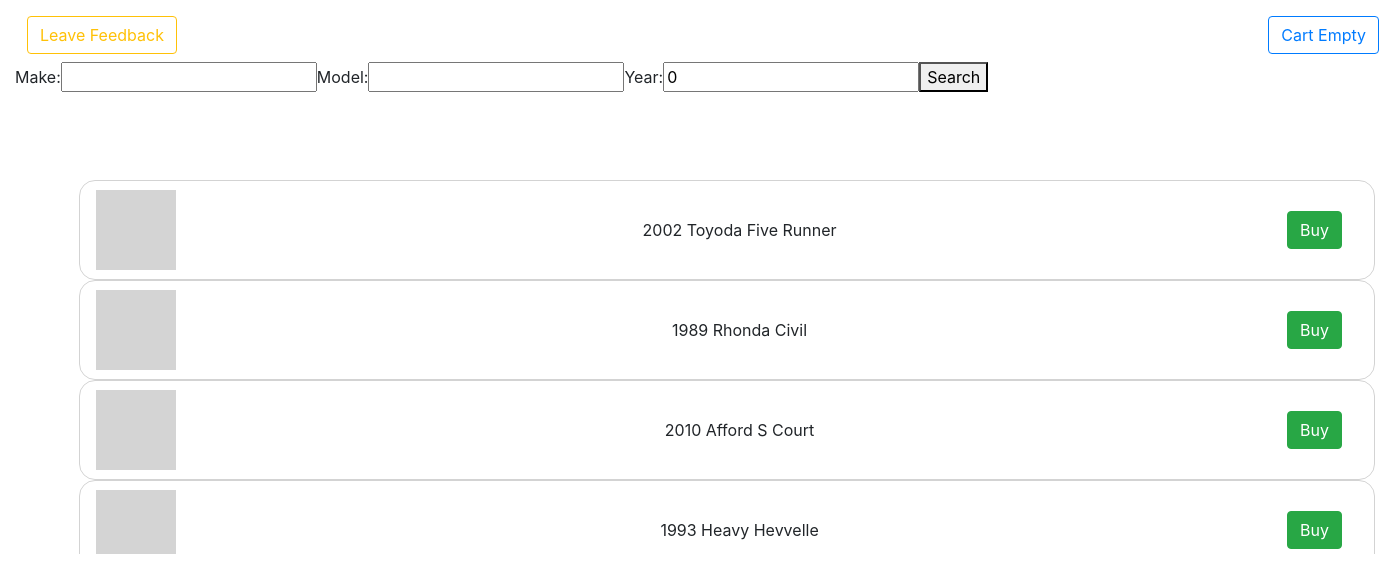
it: App Content › should add an item to the cart when buying item from the car detail
The width and height of the screenshot is (1396, 571).
Click the text "2010 Afford S Court".
click(740, 430)  # box top-left (665, 418), bottom-right (814, 442)
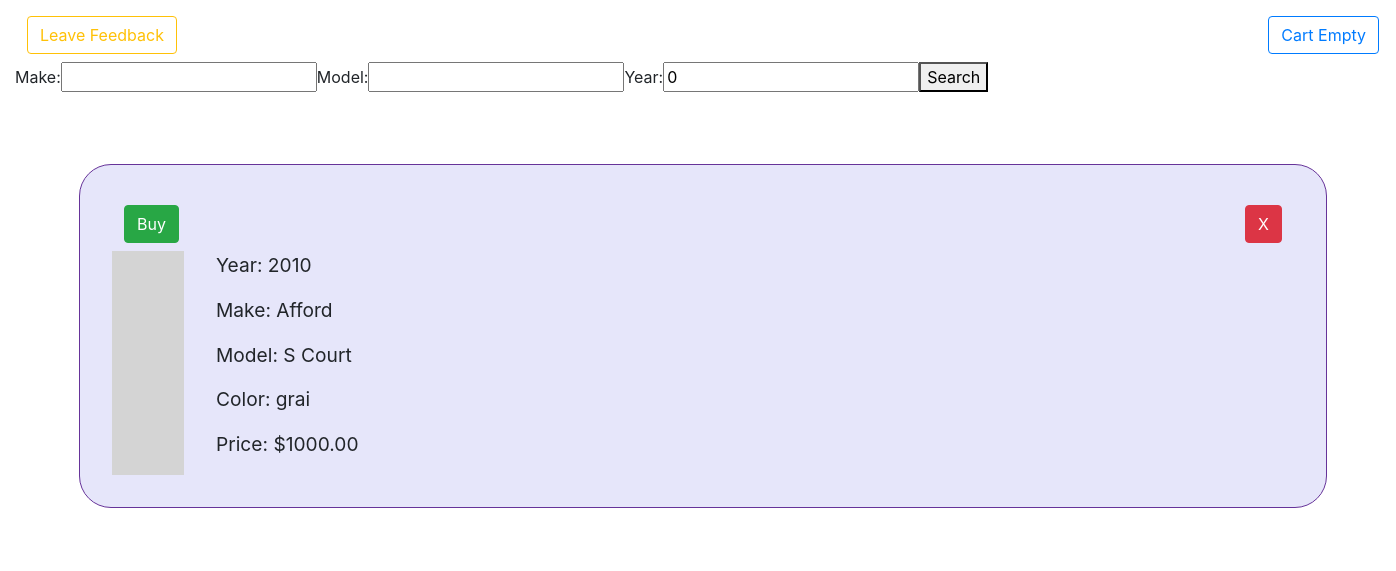
Click the button titled "Buy".
click(151, 224)  # box top-left (124, 205), bottom-right (179, 243)
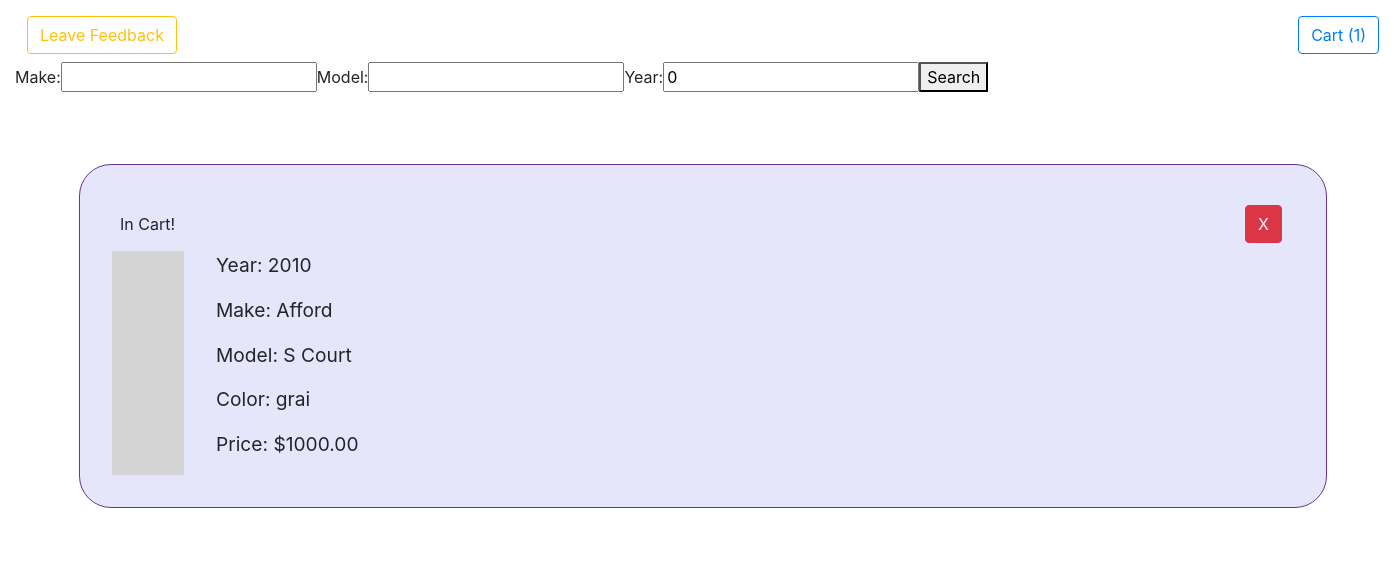
Result: the button "Cart (1)" is shown at top-left (1298, 16), bottom-right (1379, 54)
